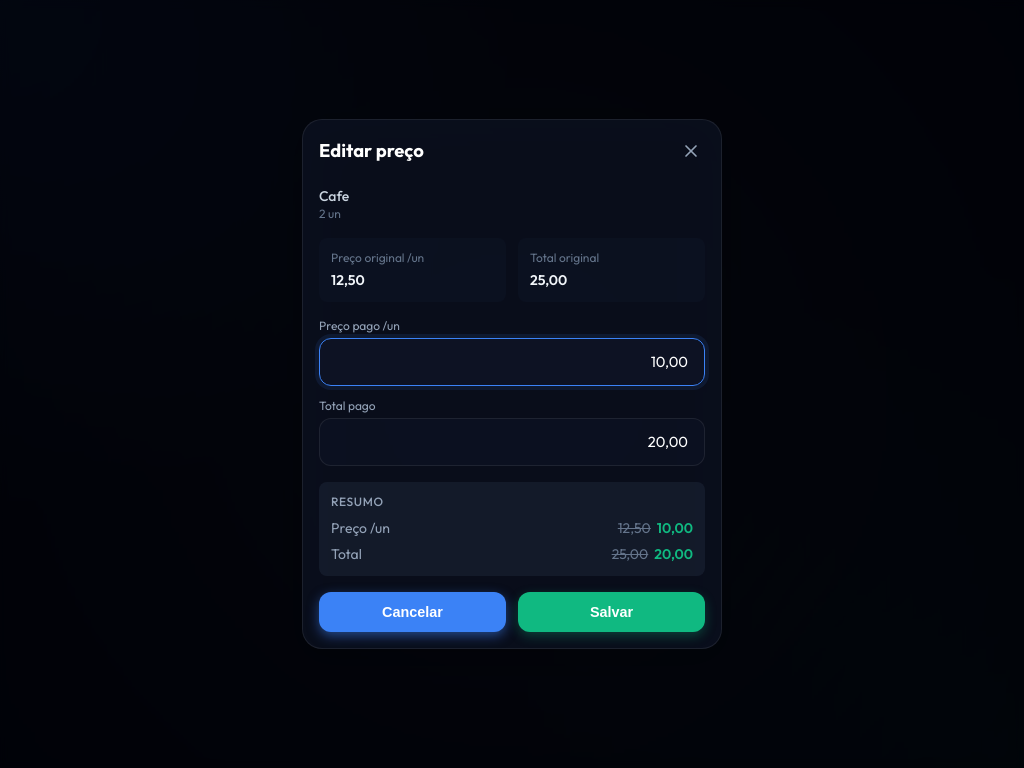
it: PriceEditModal › shows effective values in summary when using negative discount
Replace the text in the field labelled "Total pago" with "-1,50" at (512, 442), box left=319, top=418, right=705, bottom=466
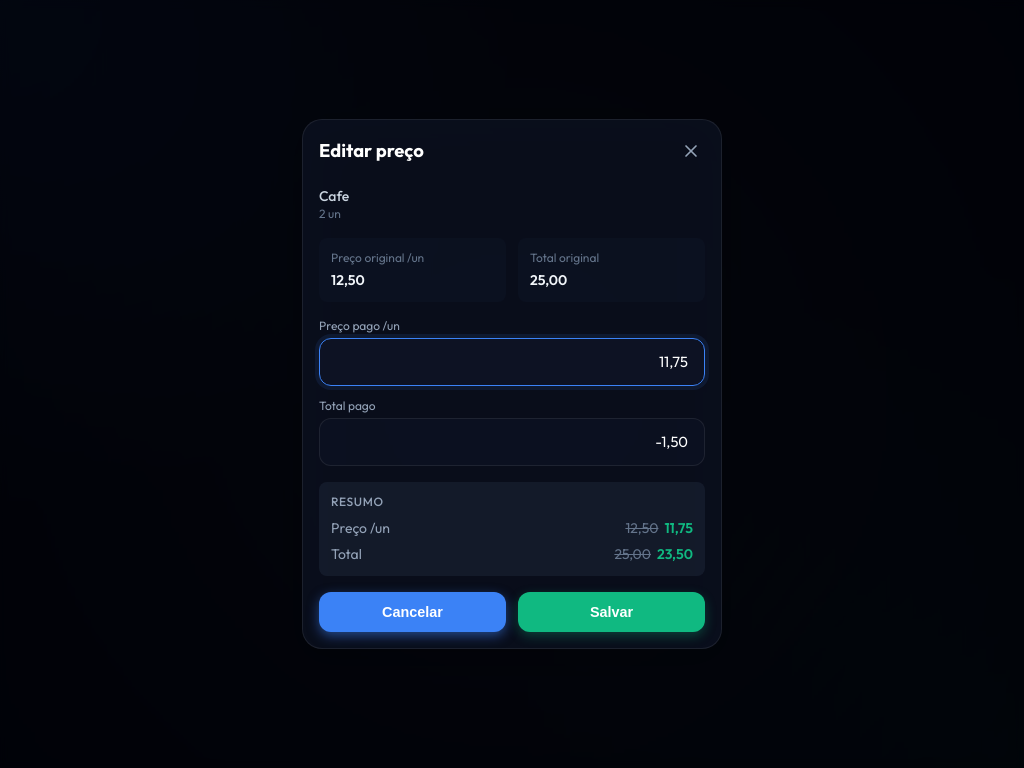
Expected: the text "11,75" is shown, left=664, top=519, right=693, bottom=537
Expected: the text "23,50" is shown, left=657, top=545, right=693, bottom=563
